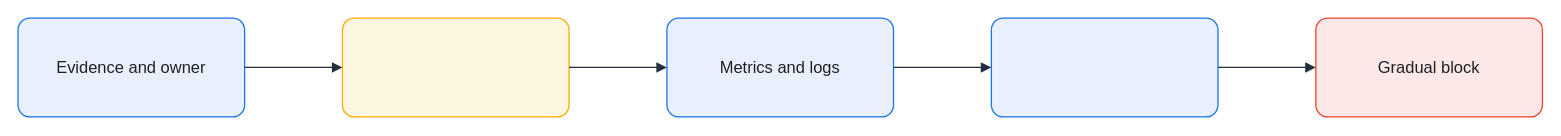
This 1561x136 diagram has some shape labels left out. The shapes that lost their labels are listed below. From the top down, each one's centre as x and y in pixels, then its label:
At (455,67): "Count mode".
At (1104,67): "Scope exception".
